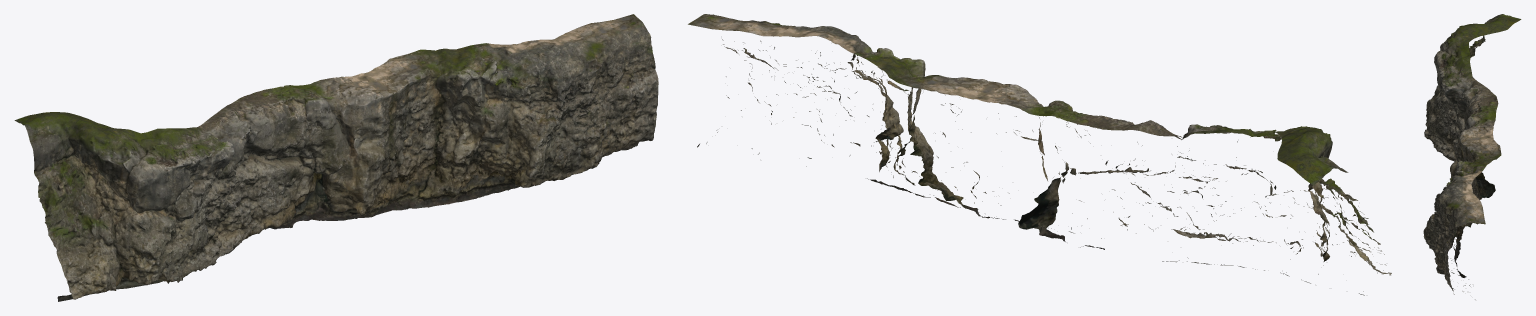
Rendered from hill_ledge.glb.
The picture shows the model from 3 angles, left to right: view 1: azimuth 30°, elevation 25°; view 2: azimuth 150°, elevation 25°; view 3: azimuth 270°, elevation 25°; orthographic projection. The views are drawn at different scales.
Parts seen in each view (by area): view 1: hill_ledge; view 2: hill_ledge; view 3: hill_ledge.
Part boxes in pixels (box(x1,y1,x2,y2)): hill_ledge: box(14, 14, 658, 301); hill_ledge: box(688, 14, 1391, 295); hill_ledge: box(1423, 14, 1521, 299).
Bounding box in the file's own units: 40.93 × 10.05 × 8.65.
Materials: 1 (1 with a texture image).
